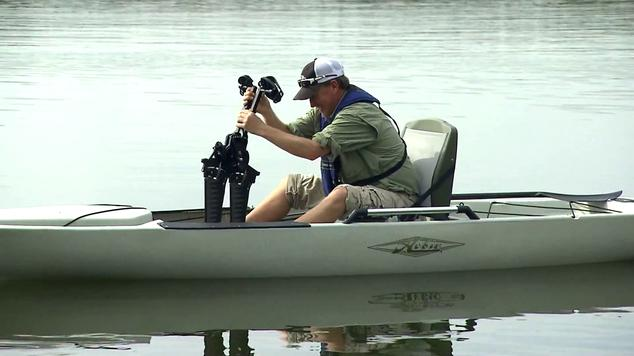stay: (196, 130, 244, 210)
